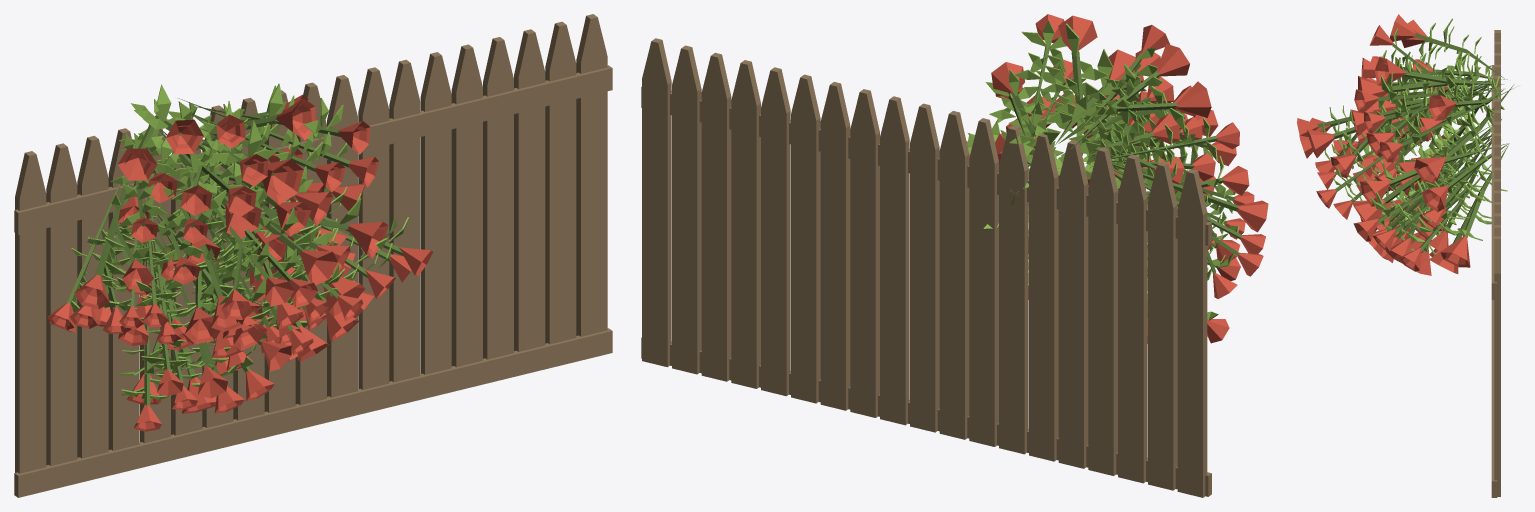
File: a1085fc5-5278-4982-a71f-3d5d2dcb80ba.glb
The picture shows the model from 3 angles, left to right: view 1: azimuth 30°, elevation 25°; view 2: azimuth 150°, elevation 25°; view 3: azimuth 270°, elevation 25°; orthographic projection. The views are drawn at different scales.
Visible parts, largest first — view 1: Cube.025_Cube.029, Circle.001_Circle.173, Cube.022_Cube.026, Circle.010_Circle.156, Cube.026_Cube.052, Cube.000_Cube.041, Cube.023_Cube.027, Cube.027_Cube.053, Cube.028_Cube.035, Cube.001_Cube.042; view 2: Cube.025_Cube.029, Circle.001_Circle.173, Circle.010_Circle.156, Cube.027_Cube.053, Cube.026_Cube.052, Cube.022_Cube.026, Cube.023_Cube.027, Cube.000_Cube.041; view 3: Circle.010_Circle.156, Cube.028_Cube.035, Cube.026_Cube.052, Circle.001_Circle.173, Cube.025_Cube.029, Cube.001_Cube.042, Cube.027_Cube.053, Cube.023_Cube.027, Cube.000_Cube.041, Cube.022_Cube.026.
Part boxes in pixels (bbox=[...]): Cube.025_Cube.029: bbox=[15, 14, 607, 473]; Circle.001_Circle.173: bbox=[110, 84, 268, 284]; Cube.022_Cube.026: bbox=[14, 328, 612, 497]; Circle.010_Circle.156: bbox=[166, 83, 378, 286]; Cube.026_Cube.052: bbox=[167, 152, 363, 354]; Cube.000_Cube.041: bbox=[118, 215, 291, 431]; Cube.023_Cube.027: bbox=[14, 65, 612, 234]; Cube.027_Cube.053: bbox=[47, 174, 187, 343]; Cube.028_Cube.035: bbox=[222, 179, 433, 361]; Cube.001_Cube.042: bbox=[180, 177, 326, 374]; Cube.025_Cube.029: bbox=[642, 38, 1207, 497]; Circle.001_Circle.173: bbox=[1069, 25, 1239, 190]; Circle.010_Circle.156: bbox=[985, 14, 1148, 194]; Cube.027_Cube.053: bbox=[1087, 156, 1268, 298]; Cube.026_Cube.052: bbox=[1076, 91, 1236, 195]; Cube.022_Cube.026: bbox=[641, 337, 1211, 496]; Cube.023_Cube.027: bbox=[641, 86, 1211, 246]; Cube.000_Cube.041: bbox=[1147, 231, 1240, 343]; Circle.010_Circle.156: bbox=[1350, 51, 1514, 190]; Cube.028_Cube.035: bbox=[1352, 133, 1509, 275]; Cube.026_Cube.052: bbox=[1297, 90, 1475, 219]; Circle.001_Circle.173: bbox=[1361, 14, 1507, 140]; Cube.025_Cube.029: bbox=[1494, 30, 1500, 496]; Cube.001_Cube.042: bbox=[1353, 119, 1501, 256]; Cube.027_Cube.053: bbox=[1383, 76, 1492, 159]; Cube.023_Cube.027: bbox=[1491, 65, 1497, 299]; Cube.000_Cube.041: bbox=[1356, 126, 1491, 259]; Cube.022_Cube.026: bbox=[1491, 300, 1497, 497].
Size of the model in its own units: 12.28 by 7.85 by 5.23.
